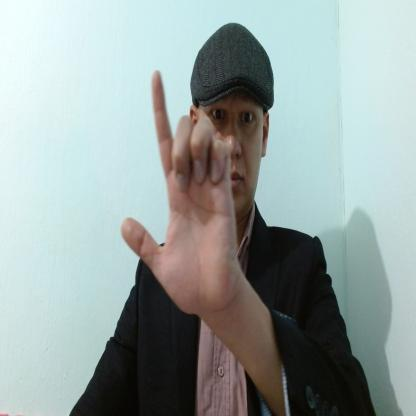L: (121, 70, 239, 316)
